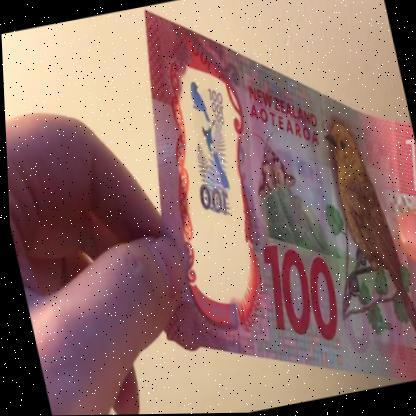100B: (171, 69, 252, 241)
